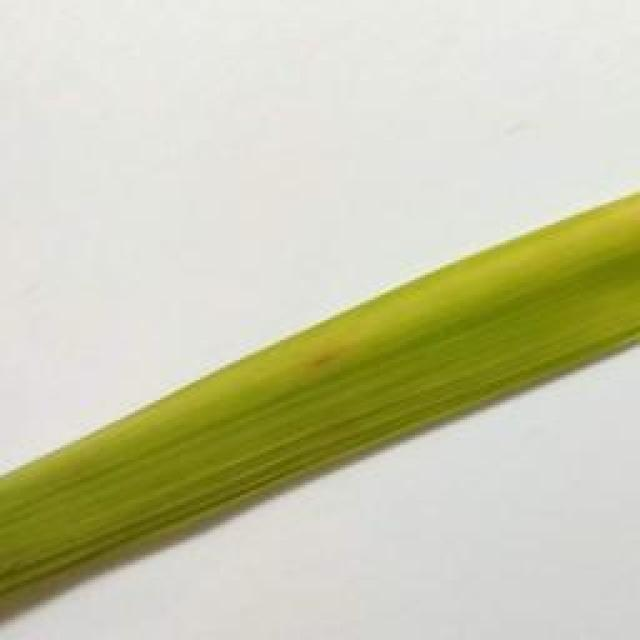Brown_Spot: (279, 340, 370, 394)
